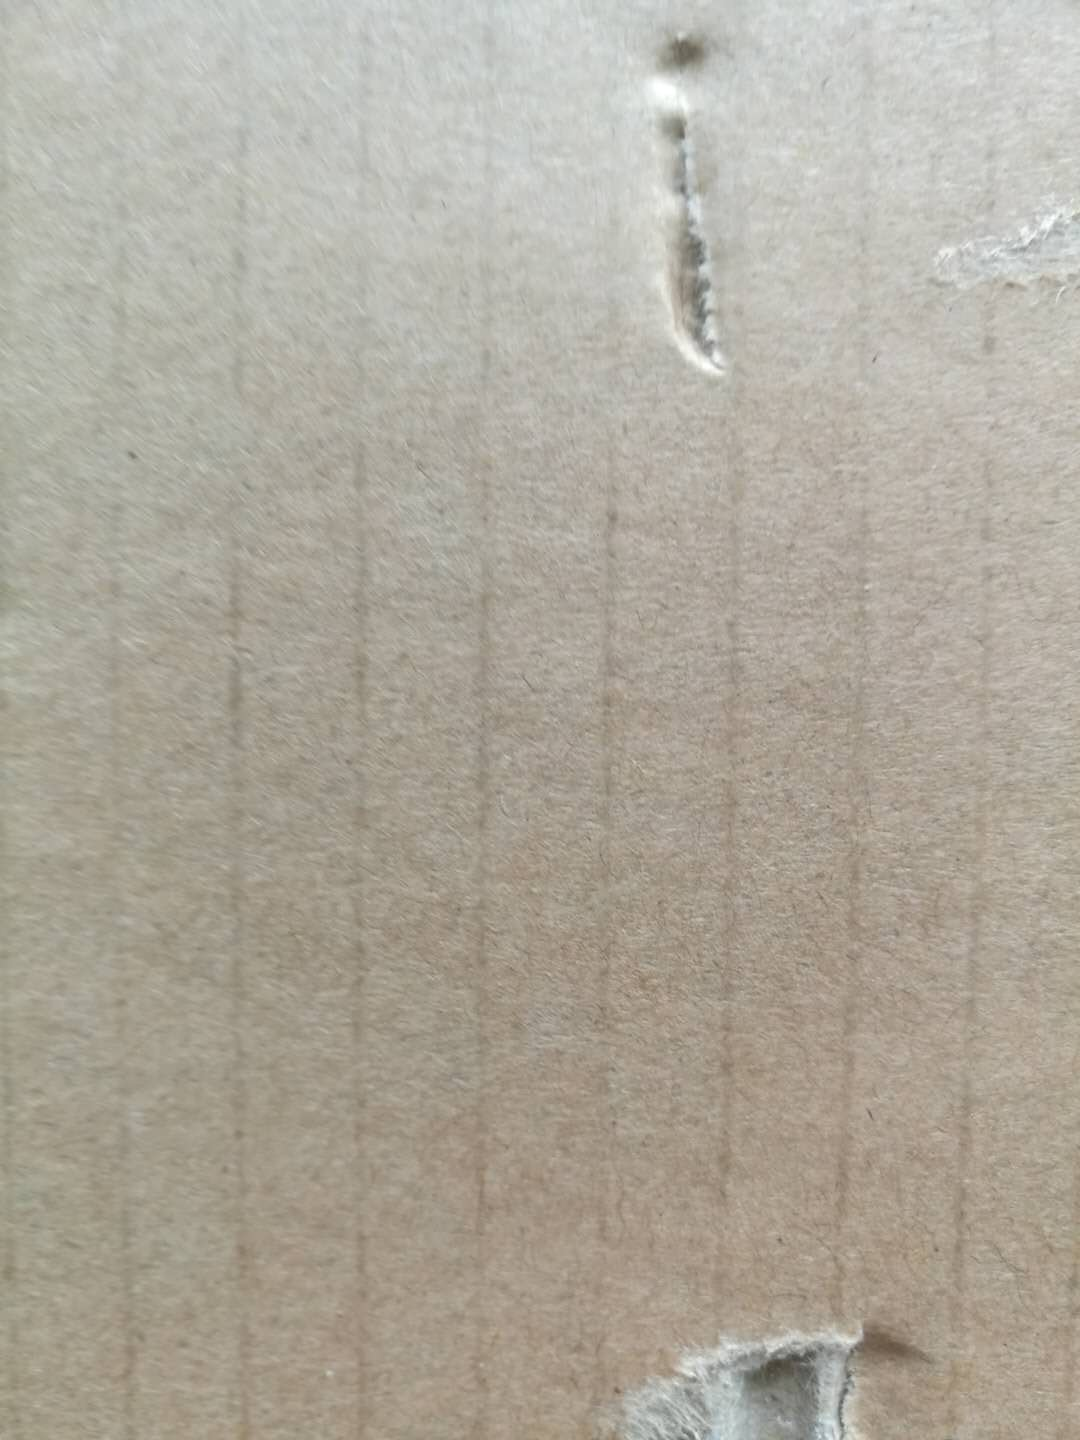defect: (608, 10, 768, 401), (569, 1285, 948, 1440), (916, 184, 1080, 325)
